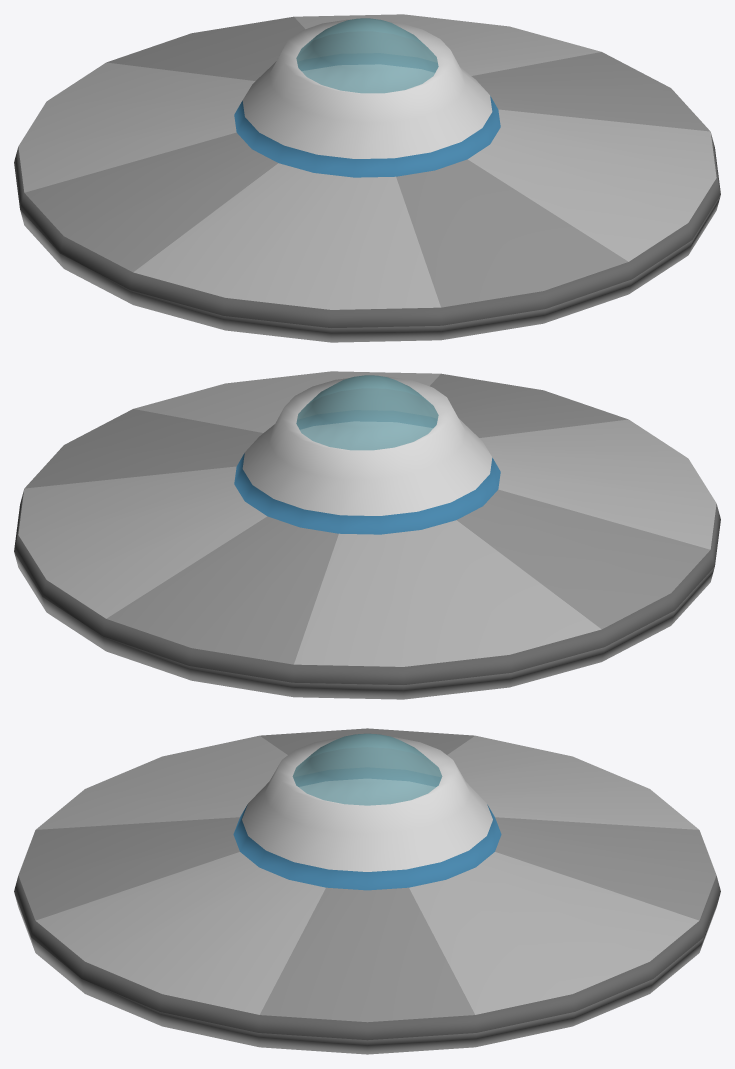
The model's file is SpaceShip.fbx.
3 renders of one model, top to bottom at view 1: azimuth 30°, elevation 25°; view 2: azimuth 150°, elevation 25°; view 3: azimuth 270°, elevation 25°, orthographic.
Parts seen in each view (by area): view 1: SpaceShip; view 2: SpaceShip; view 3: SpaceShip.
Boxes of the visible parts, x1,y1,x2,y2 form: SpaceShip: [14, 14, 720, 342]; SpaceShip: [14, 371, 720, 699]; SpaceShip: [14, 728, 720, 1054].
Bounding box in the file's own units: 10.33 × 4.66 × 10.38.
